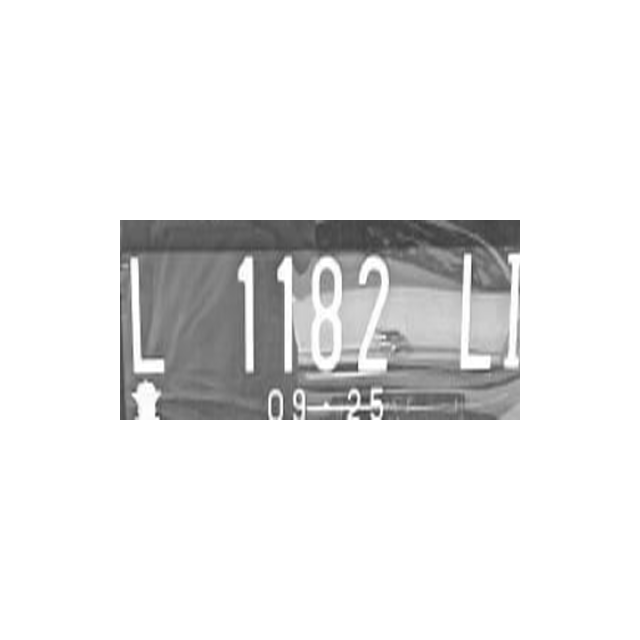contain: (127, 255, 166, 376), (226, 254, 265, 375), (267, 256, 306, 377), (305, 254, 344, 375), (352, 253, 391, 374), (456, 252, 495, 373), (492, 251, 520, 373)
